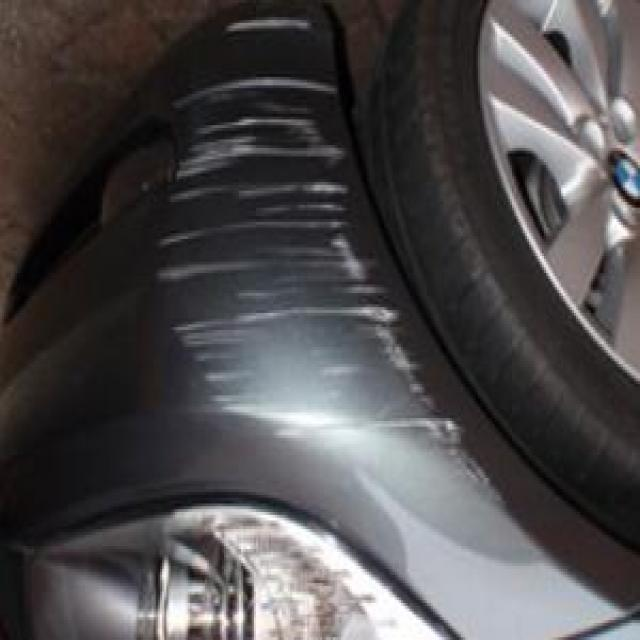scratch: (148, 88, 488, 535)
